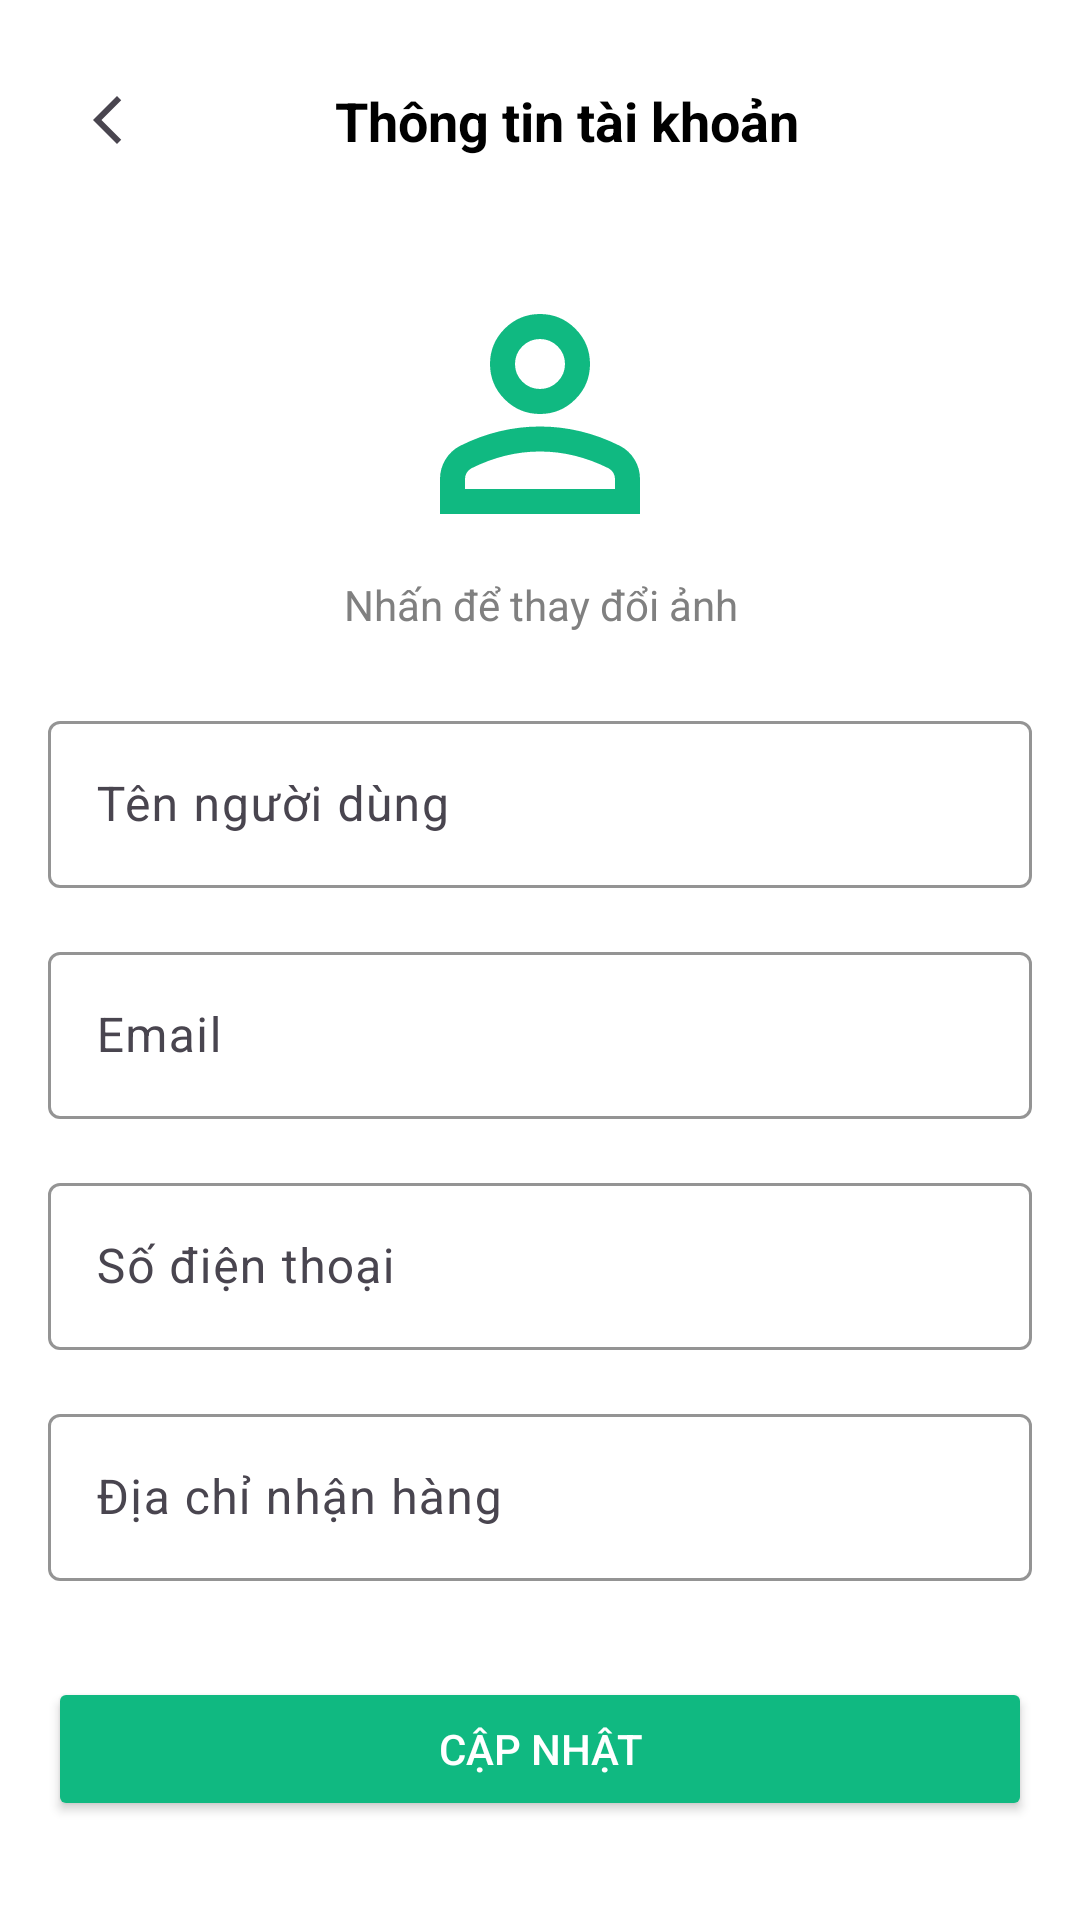

Screen size 1080*1920. Icon name, then its box in pixels as (x1, y1, x2, y2):
Back: (93, 96, 121, 144)
user: (440, 314, 640, 514)
